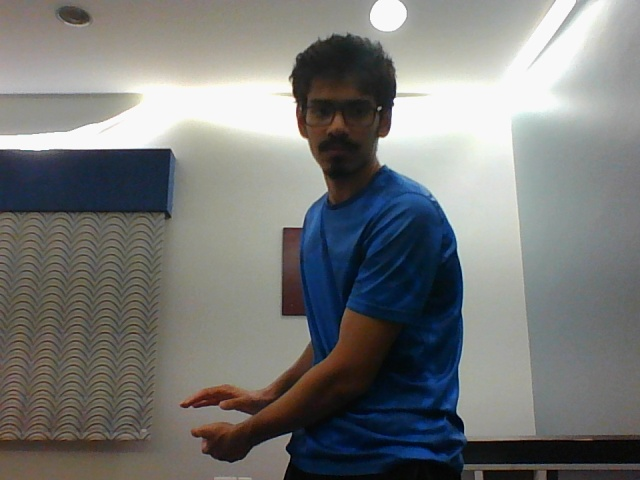charge: (170, 360, 272, 463)
